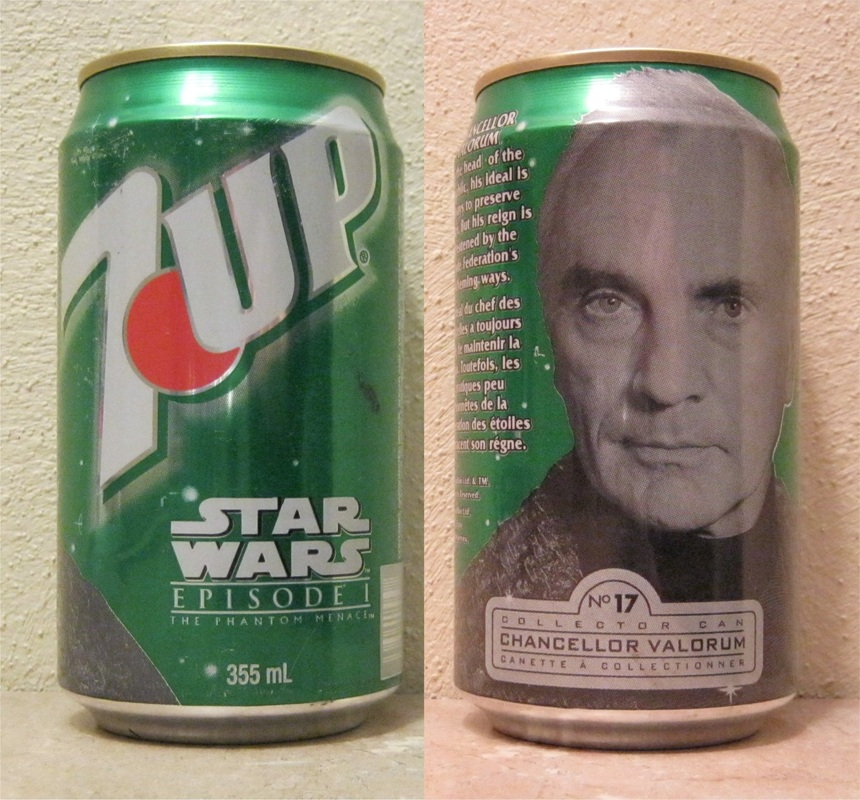Can: (450, 58, 812, 743), (59, 60, 398, 738)
